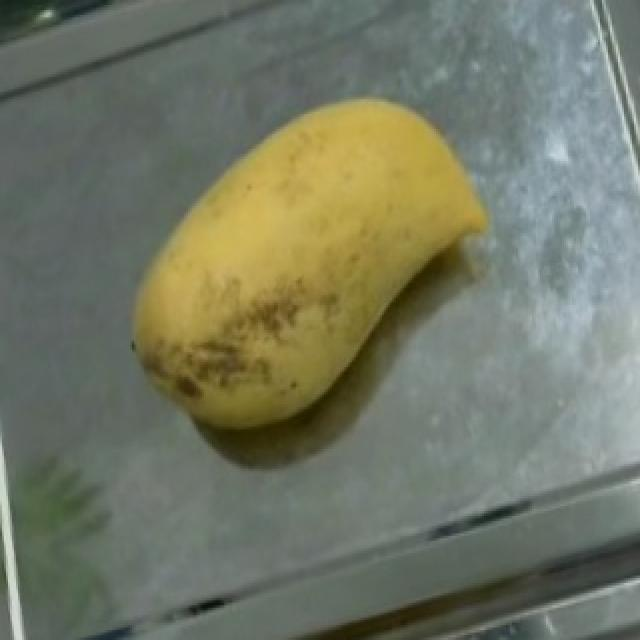fruit: (154, 40, 530, 449)
